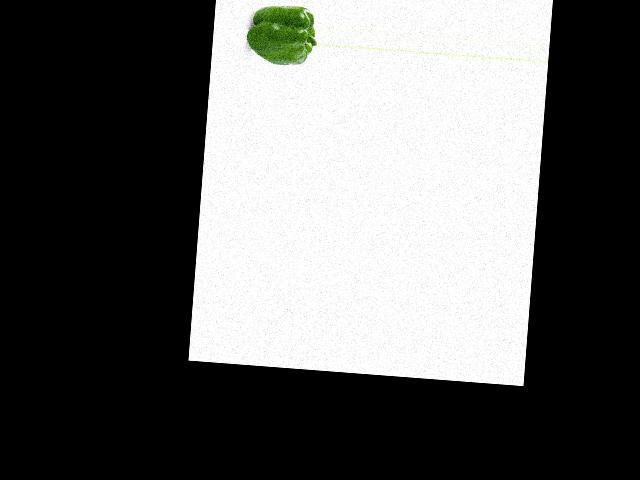bell_pepper: (247, 1, 318, 68)
